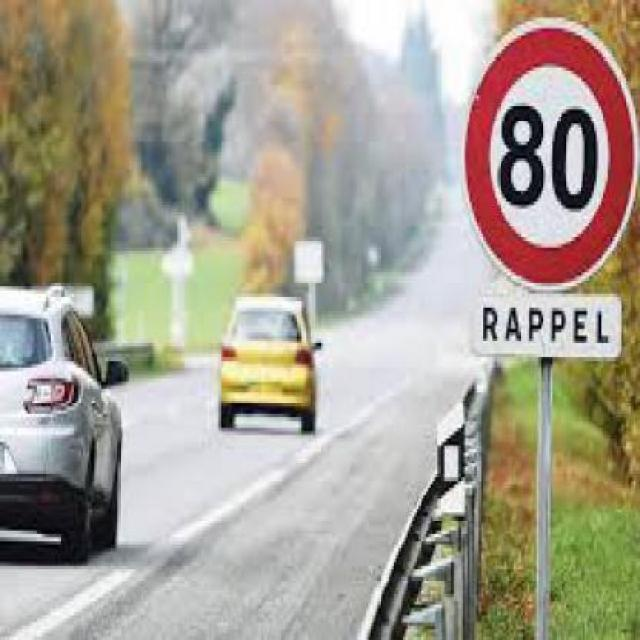speed_limit_80: (462, 18, 638, 298)
